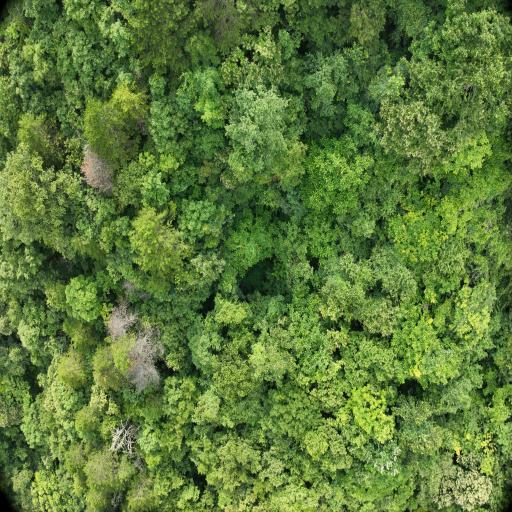dead-tree: (86, 152, 104, 189), (136, 347, 153, 382), (115, 430, 128, 454), (112, 316, 127, 332)
